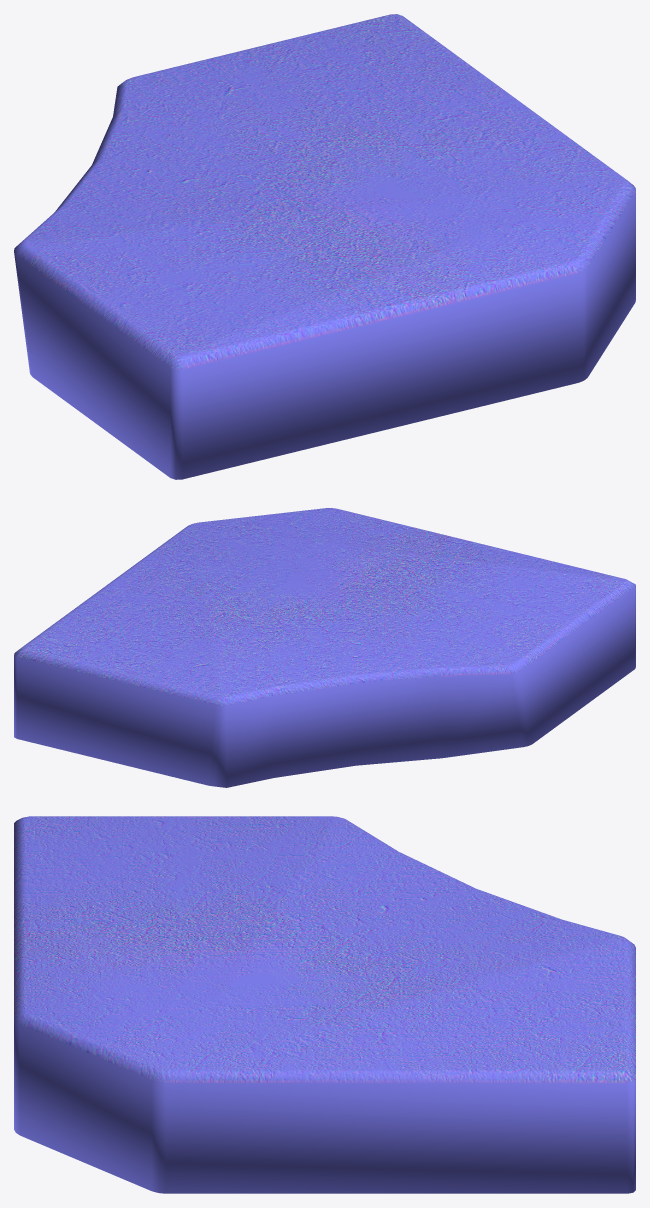
The model's file is Room 1 floor b.fbx.
The picture shows the model from 3 angles, top to bottom: view 1: azimuth 30°, elevation 25°; view 2: azimuth 150°, elevation 25°; view 3: azimuth 270°, elevation 25°; orthographic projection. The views are drawn at different scales.
Parts seen in each view (by area): view 1: Cube.043; view 2: Cube.043; view 3: Cube.043.
Boxes of the visible parts, bbox=[...] form: Cube.043: bbox=[14, 14, 635, 479]; Cube.043: bbox=[14, 508, 635, 787]; Cube.043: bbox=[14, 816, 635, 1193].
Size of the model in its own units: 16.51 by 78.19 by 78.19.
